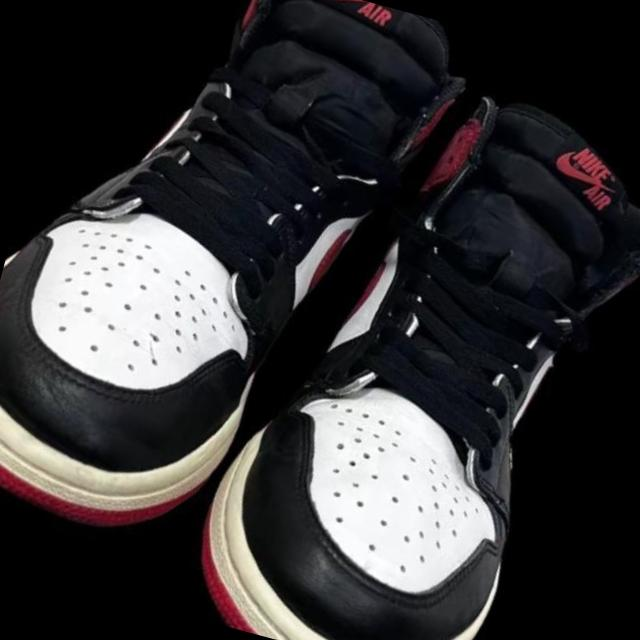nike_original_jordan: (0, 0, 507, 640), (139, 26, 640, 640)
